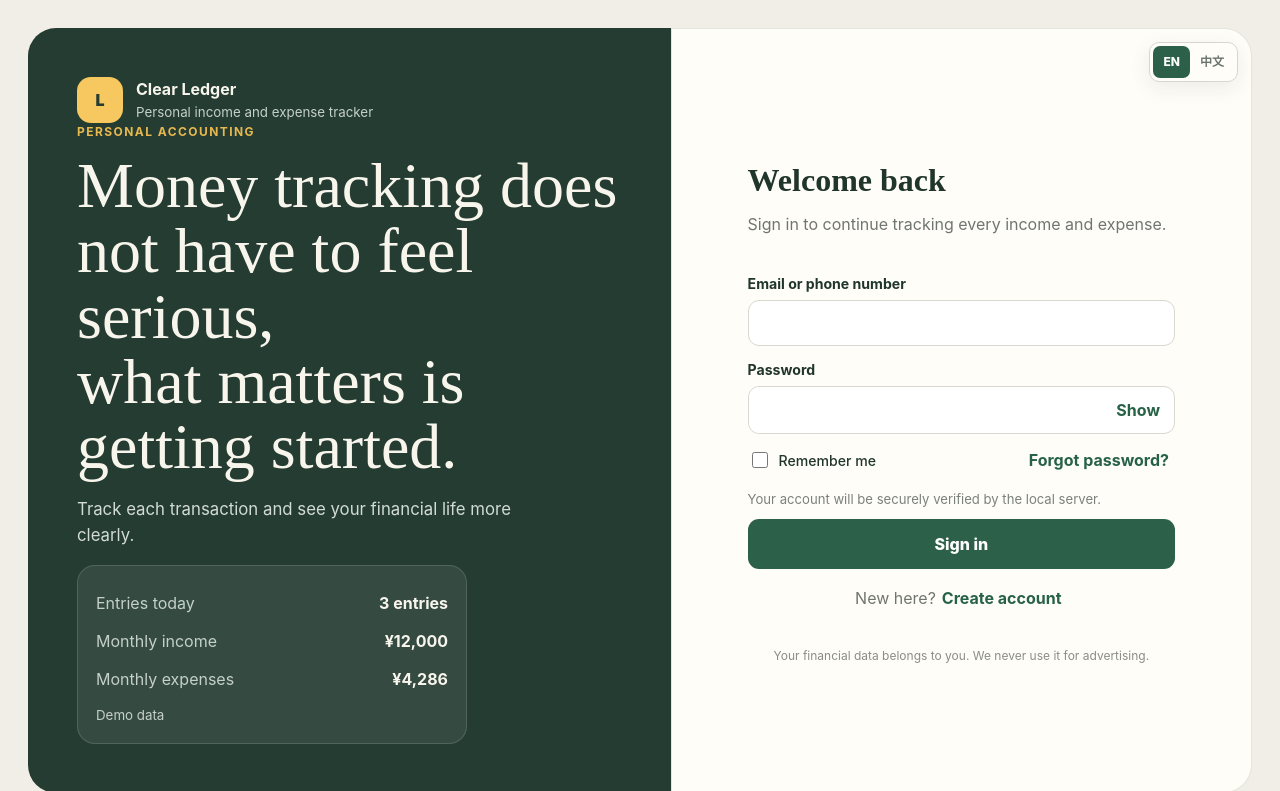
Test case: AuthGate › 可以从登录切换到注册和Recover your password
Click the button "Create account" at (1002, 598), box [936,585,1068,611]
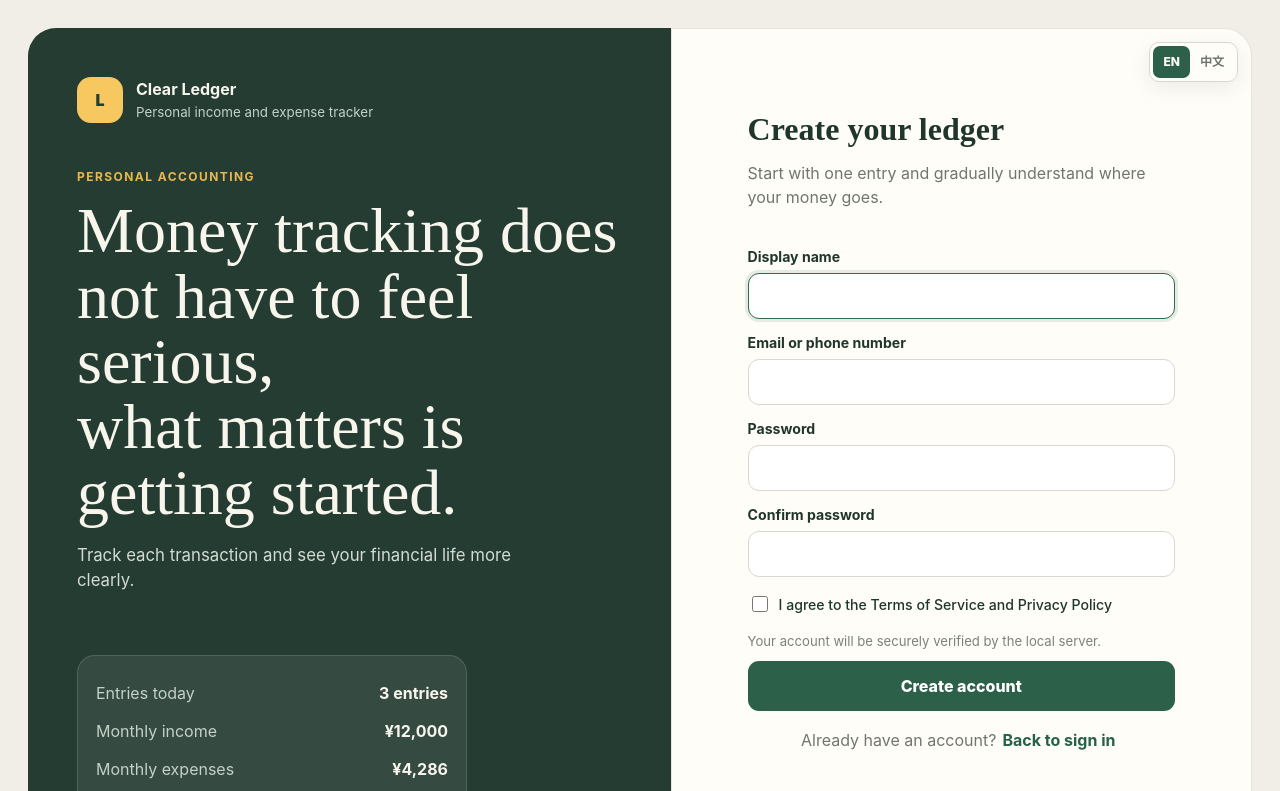
Expected: the text "Create your ledger" is shown, [748,111,1004,147]
Click the button "Back to sign in" at (1059, 740), box [996,727,1122,753]
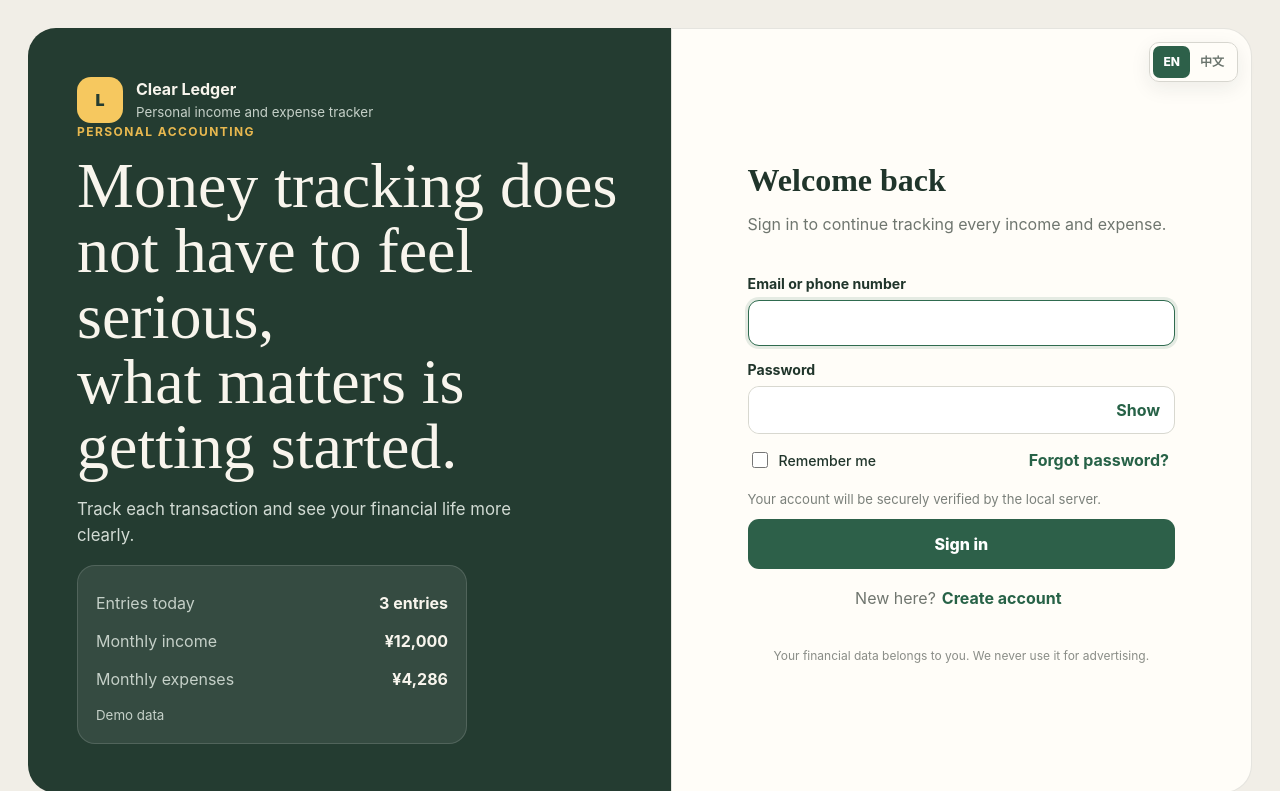
Click the button "Forgot password?" at (1099, 460), box [1023,447,1175,473]
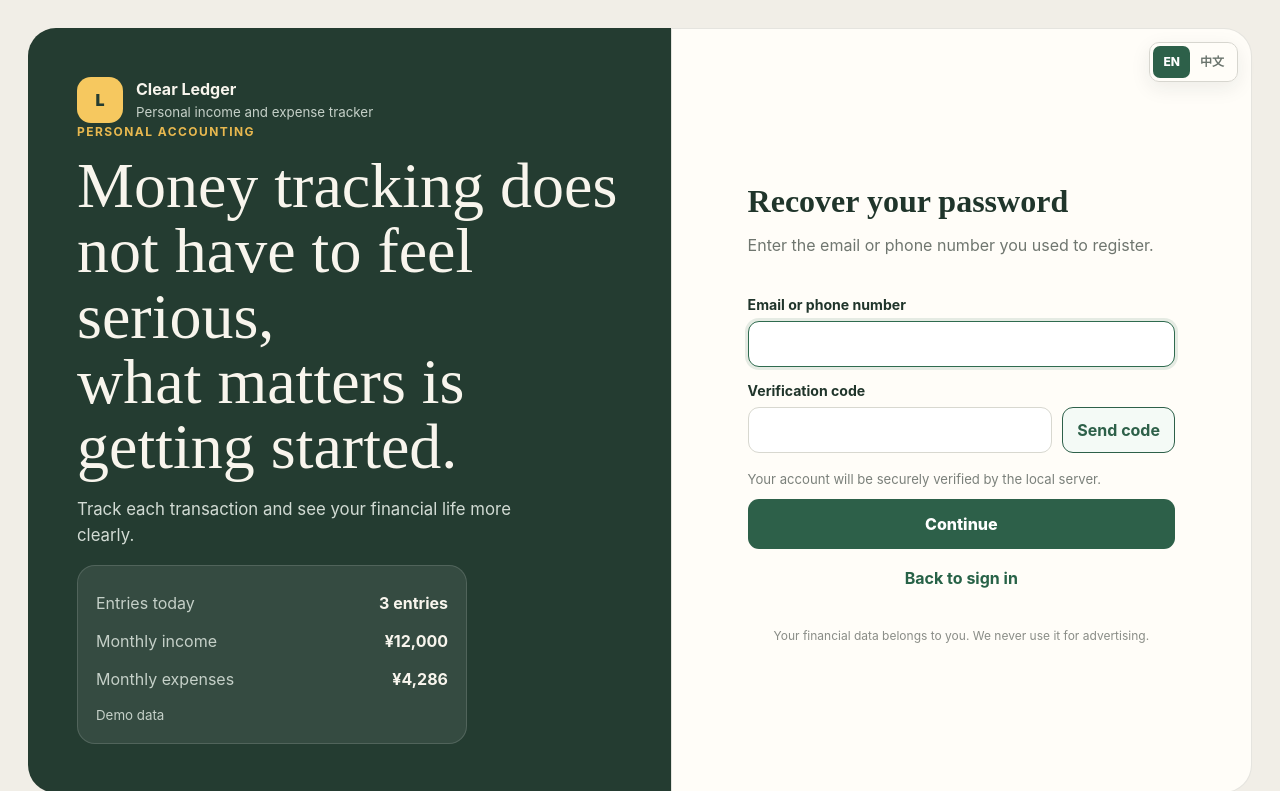
Expected: the text "Recover your password" is shown, [748,183,1068,219]
